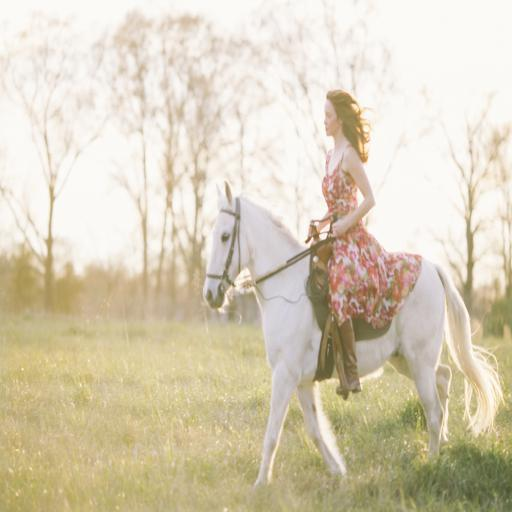horse: (202, 180, 510, 490)
